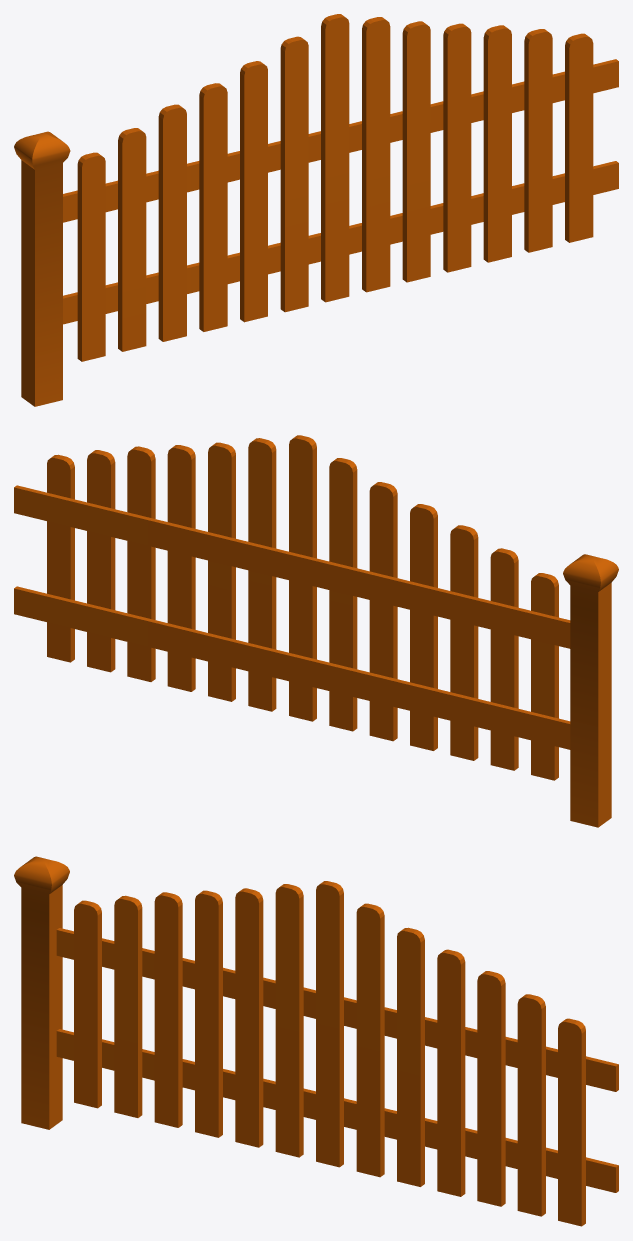
File: Fence_1.2.fbx
3 views of the same model, one above another, from view 1: azimuth 30°, elevation 25°; view 2: azimuth 150°, elevation 25°; view 3: azimuth 330°, elevation 25° (orthographic).
Parts seen in each view (by area): view 1: Fence_1.2; view 2: Fence_1.2; view 3: Fence_1.2.
Boxes of the visible parts, x1=… form: Fence_1.2: x1=14, y1=14, x2=618, y2=406; Fence_1.2: x1=14, y1=435, x2=618, y2=827; Fence_1.2: x1=14, y1=856, x2=618, y2=1226.
Size of the model in its own units: 304 by 152 by 16.06.
1 material, 1 textured.
